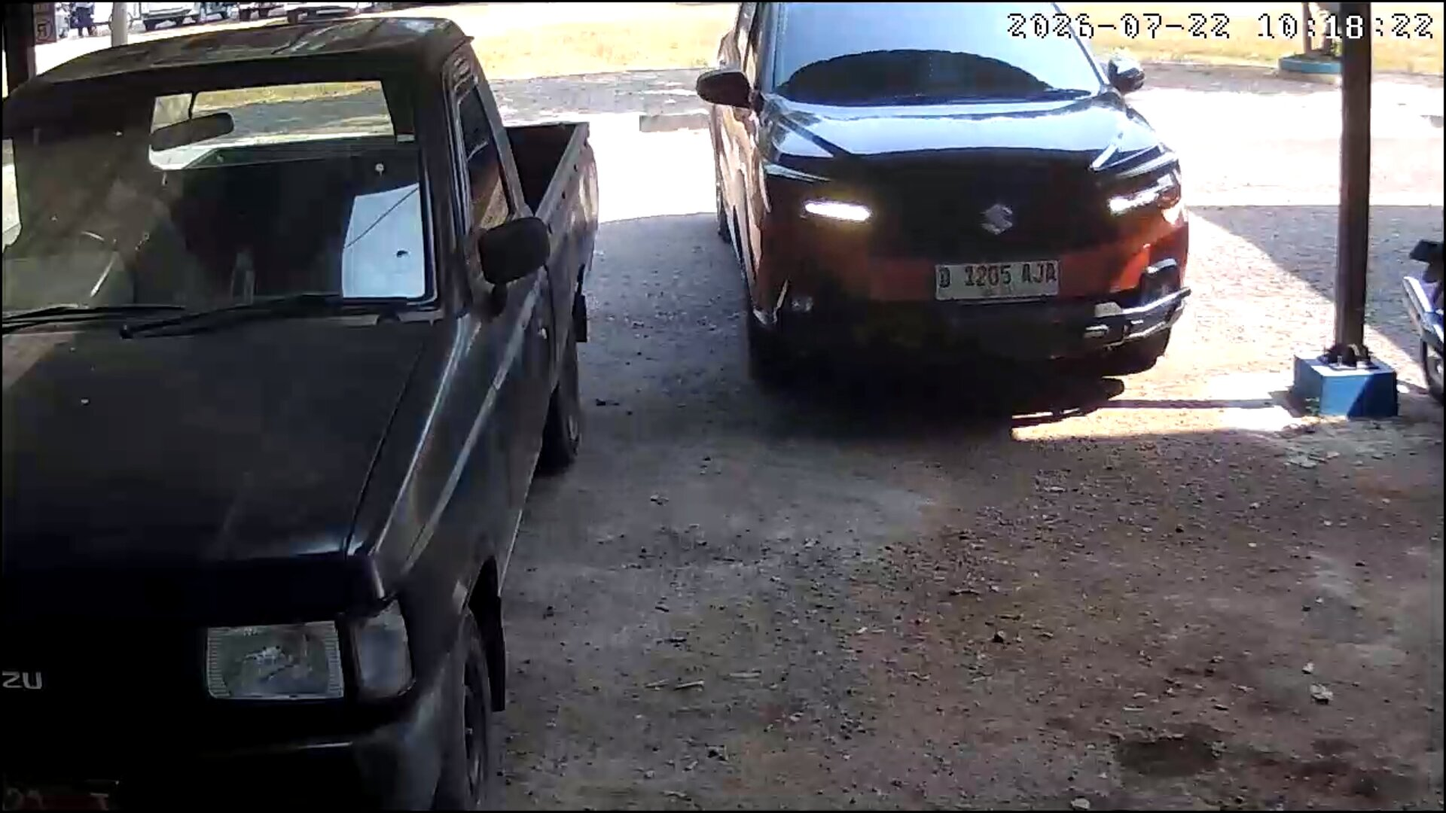plat nomor: (935, 260, 1060, 302)
